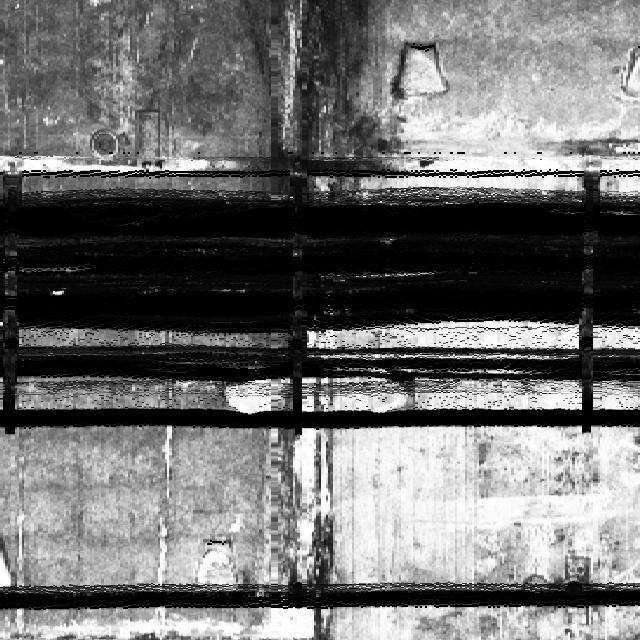leakage: (231, 0, 401, 197)
